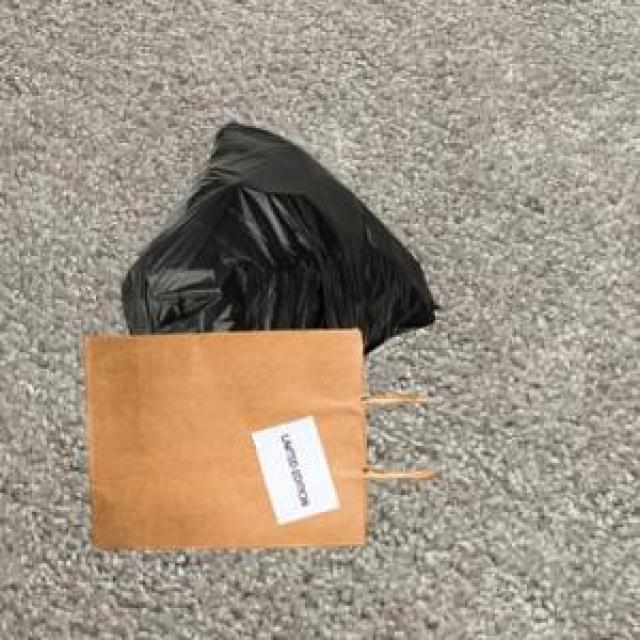miscellaneous trash: (117, 117, 435, 352)
paper: (81, 324, 431, 544)
